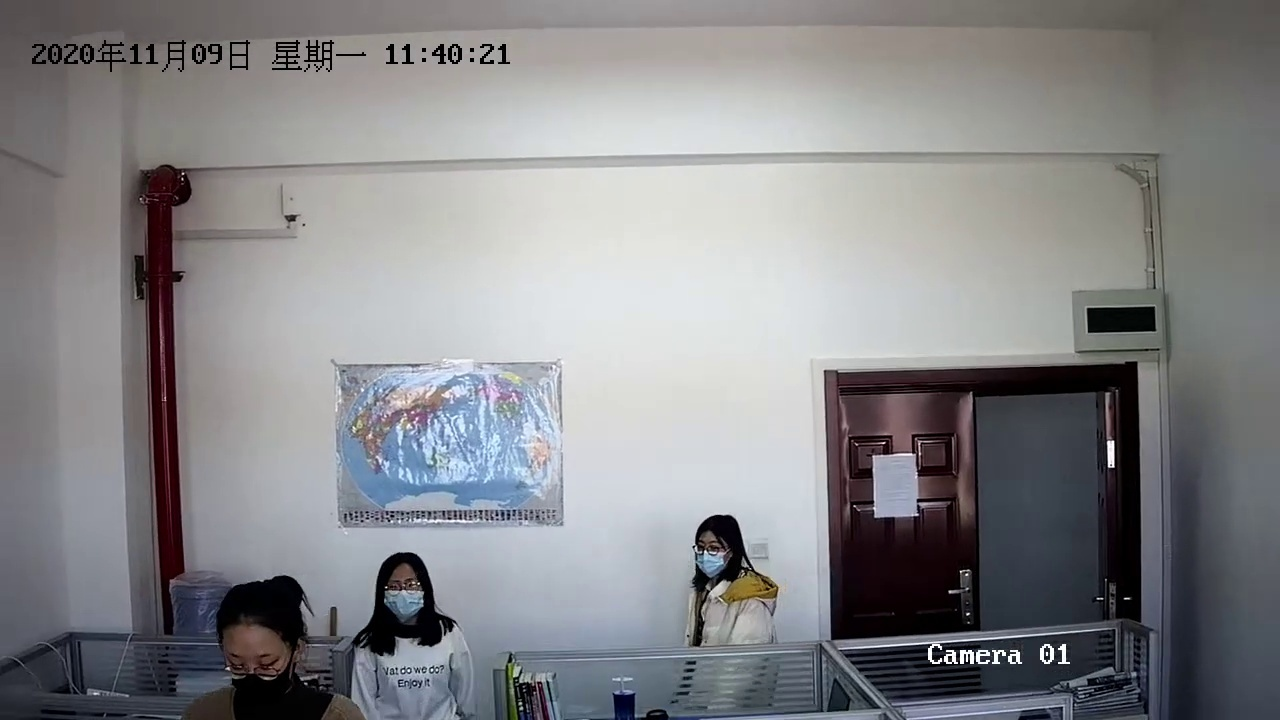mask: (219, 578, 301, 709), (373, 554, 433, 637), (689, 520, 740, 592)
